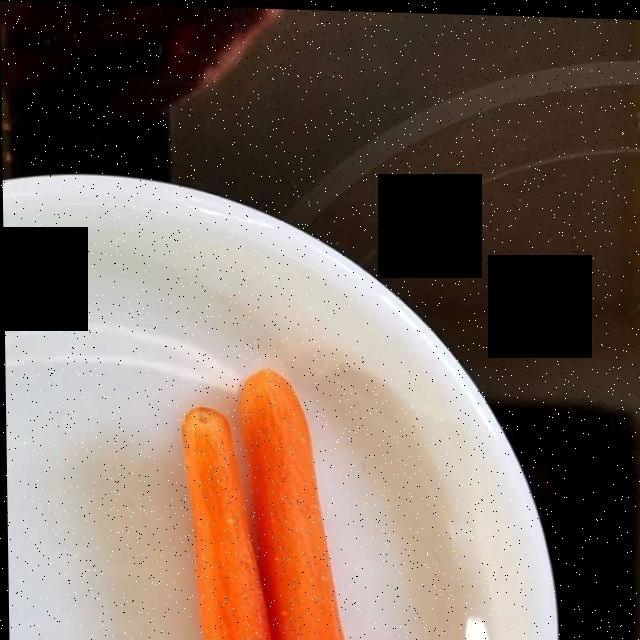carrot: (182, 371, 344, 640)
